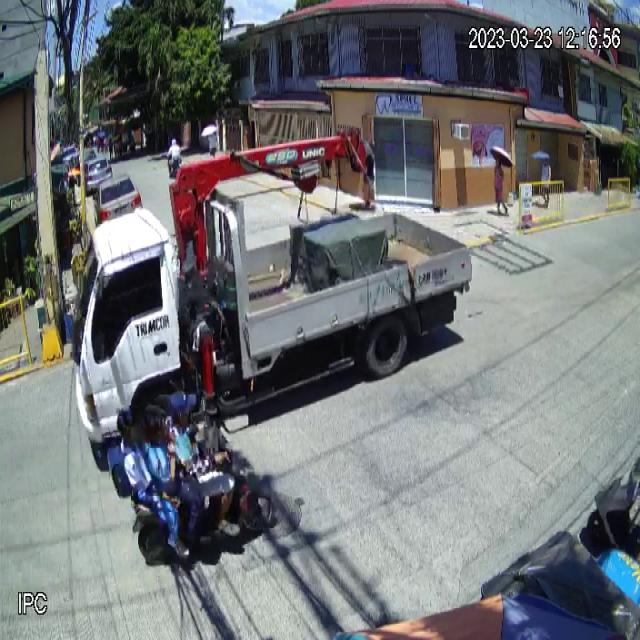Truck: (65, 131, 472, 450)
